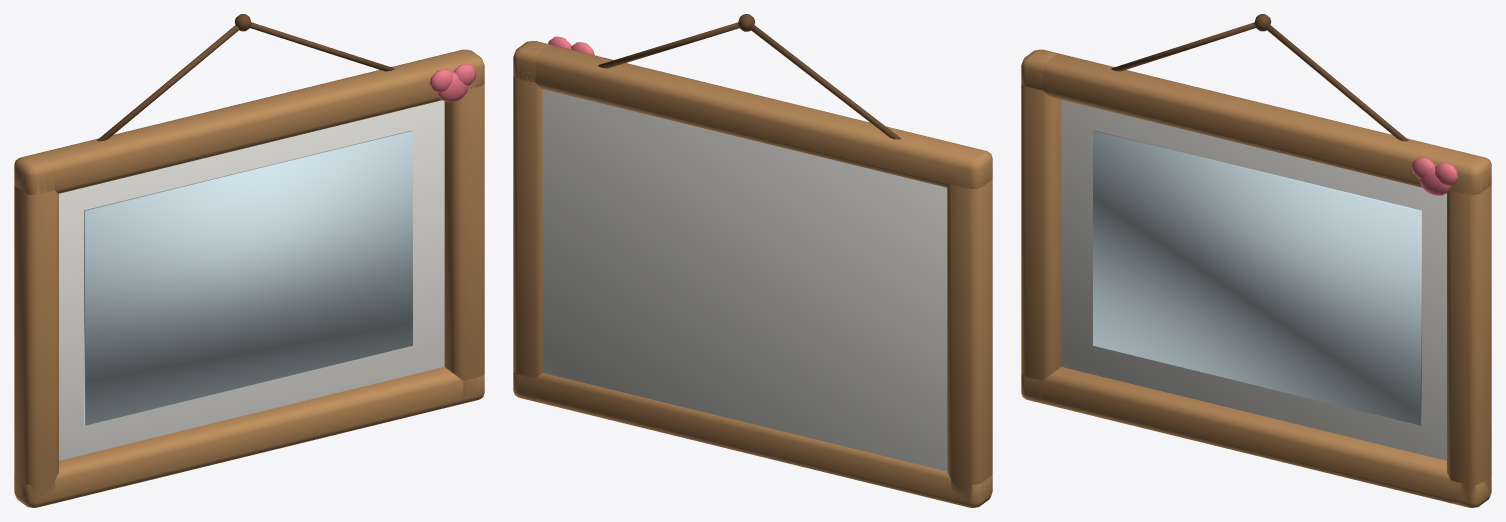
File: album-frame-wall.glb
3 renders of one model, left to right at view 1: azimuth 30°, elevation 25°; view 2: azimuth 150°, elevation 25°; view 3: azimuth 330°, elevation 25°, orthographic.
Parts seen in each view (by area): view 1: frame, photo; view 2: frame; view 3: frame, photo.
Part boxes in pixels (x1=…): frame: x1=14, y1=14, x2=484, y2=507; photo: x1=84, y1=130, x2=412, y2=425; frame: x1=513, y1=14, x2=992, y2=507; frame: x1=1021, y1=14, x2=1491, y2=507; photo: x1=1093, y1=130, x2=1421, y2=425.
Size of the model in its own units: 0.84 by 0.754 by 0.086.
